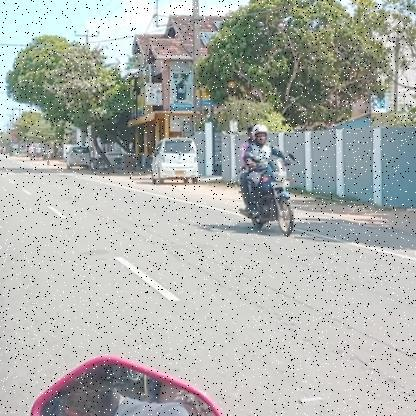motorcycle: (236, 158, 298, 238)
